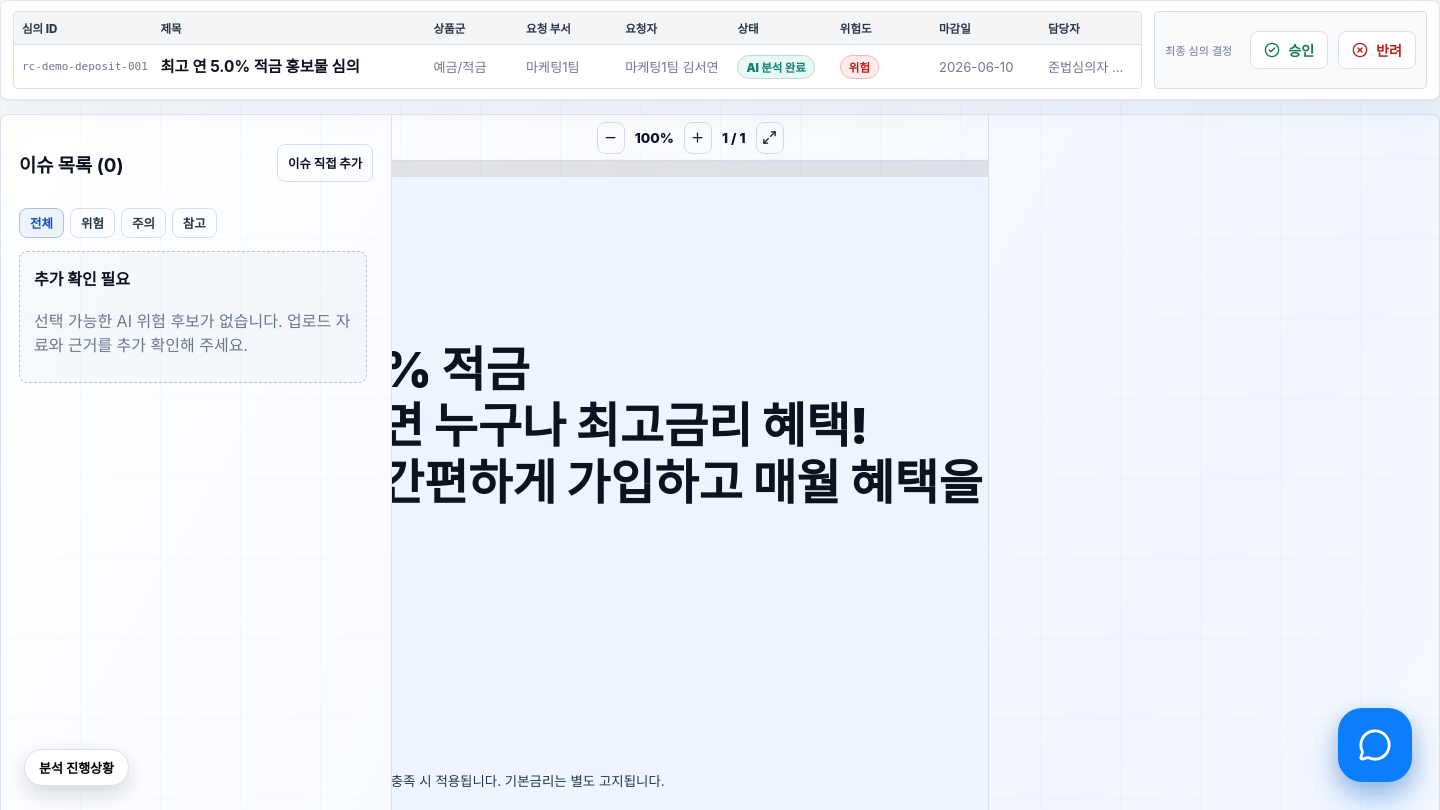
Test case: ReviewDetailWorkspace › adds a manual issue from the direct-review workbench
Click the button "이슈 직접 추가" at [325, 163], box [277,144,373,182]
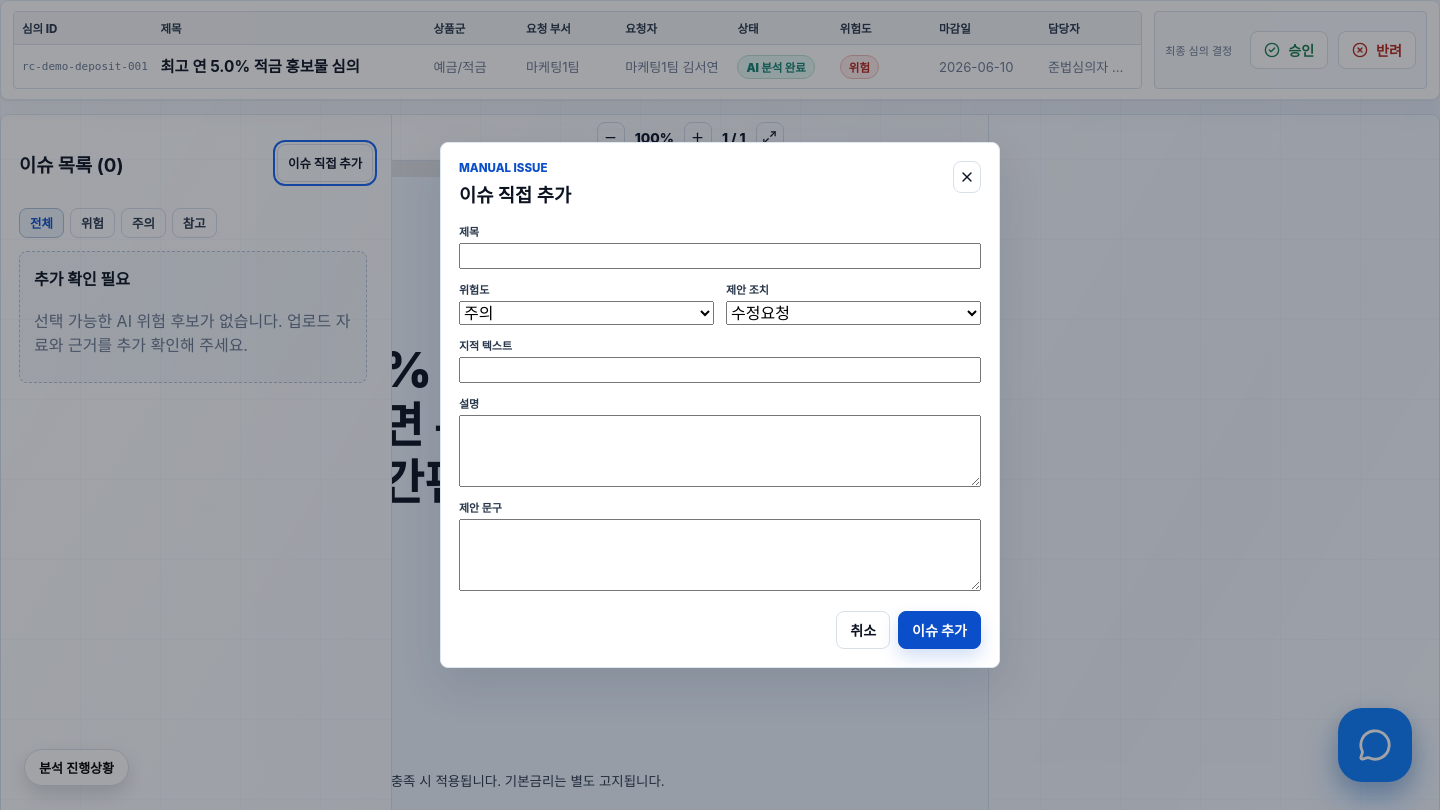
Type "직접 추가한 이슈" into the field named "이슈 제목" at [720, 256], box [459,243,981,269]
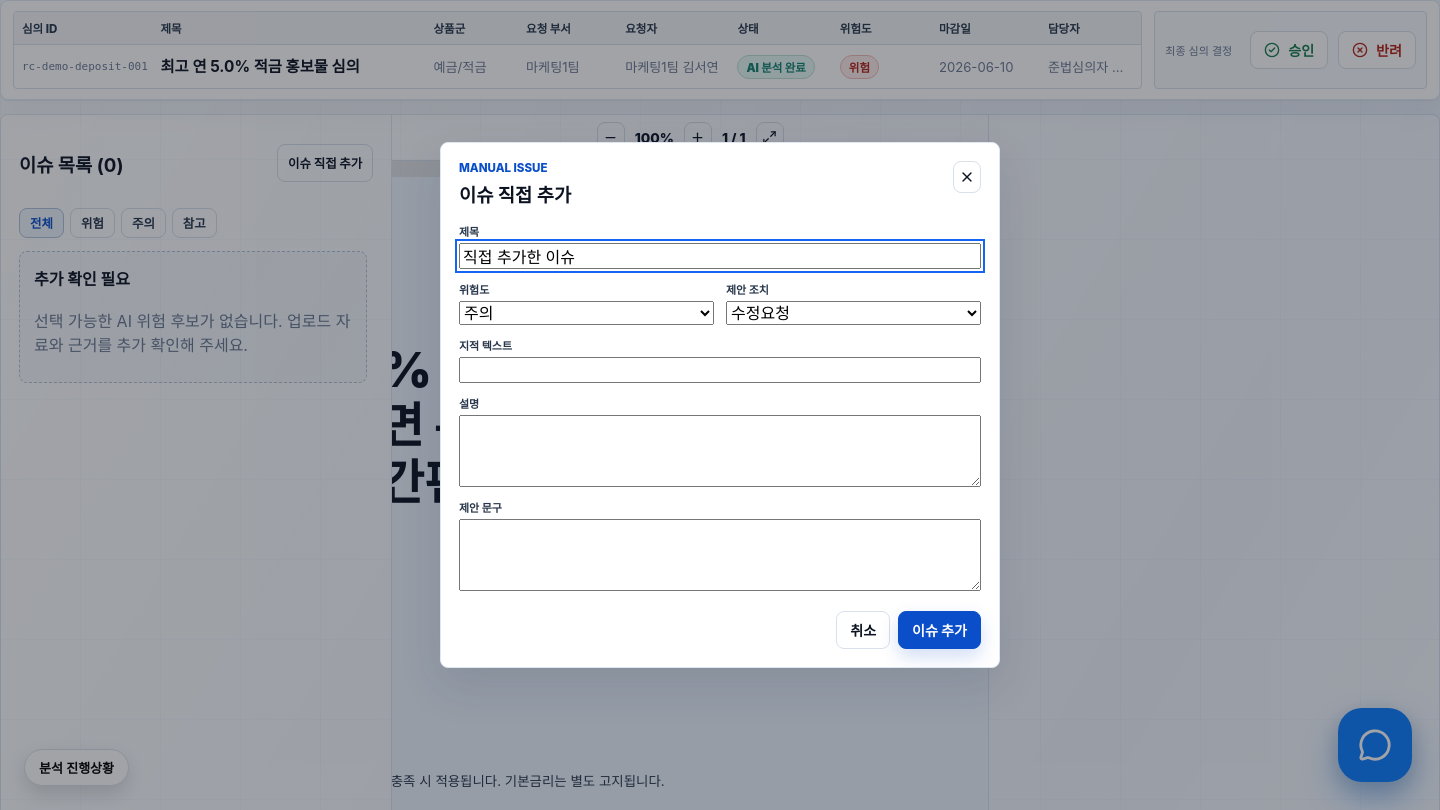
Select "위험" in the dropdown named "이슈 위험도" at [586, 313], box [459,301,714,325]
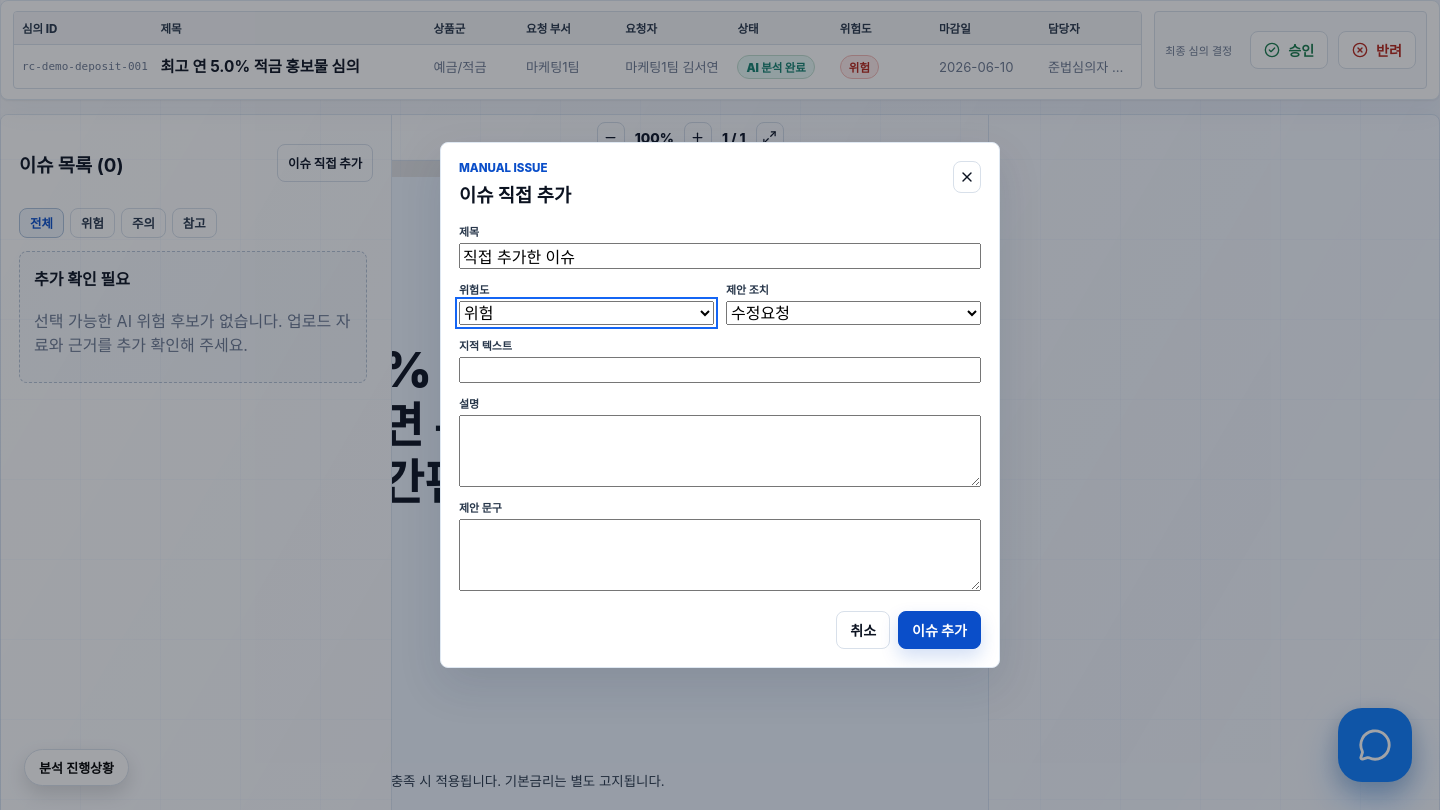
Select "반려" in the dropdown labelled "제안 조치" at [854, 313], box [726,301,981,325]
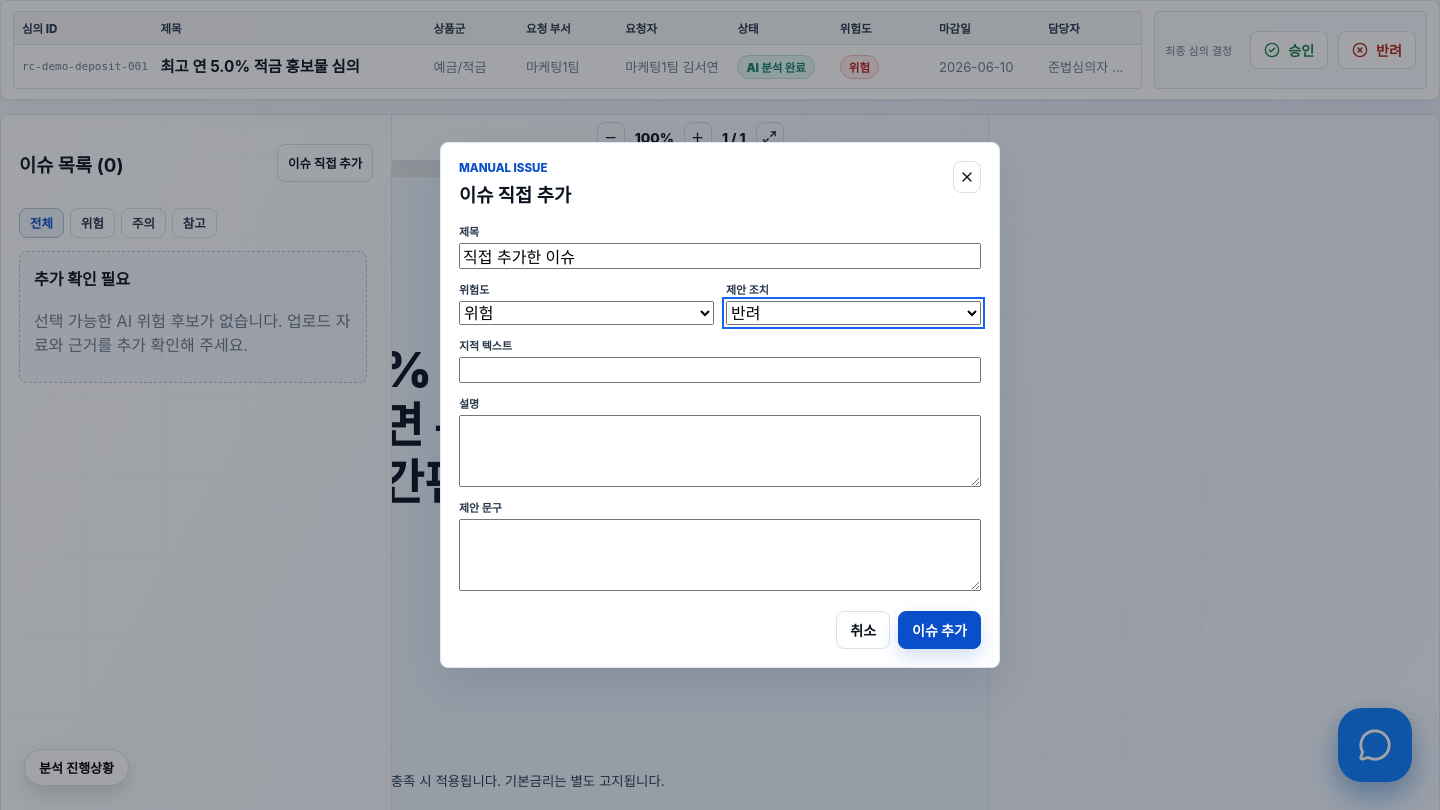
Click the button "이슈 추가" at [940, 630], box [898,611,981,649]
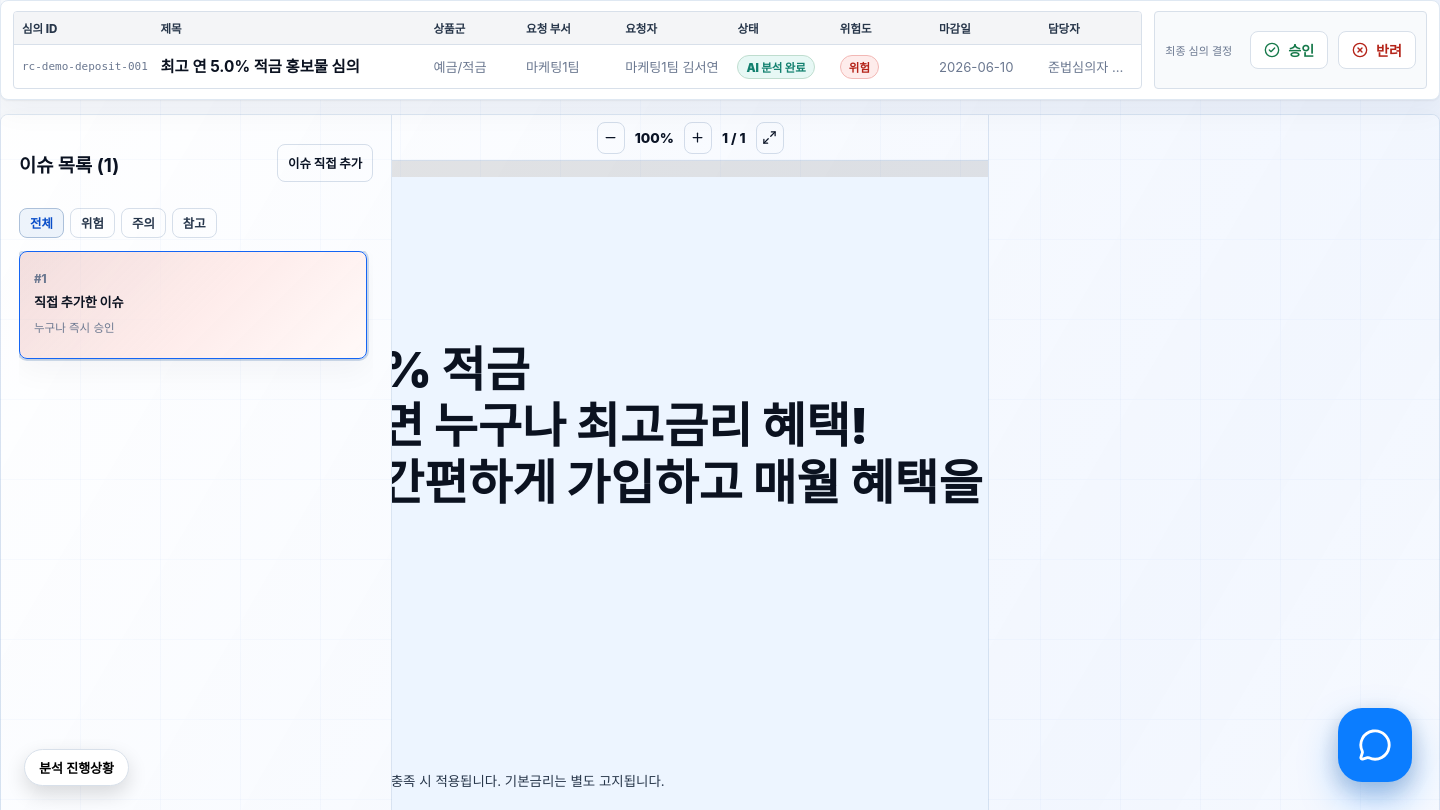
Check: the button "#1 직접 추가한 이슈 누구나 즉시 승인" is shown, box [19,251,367,359]
